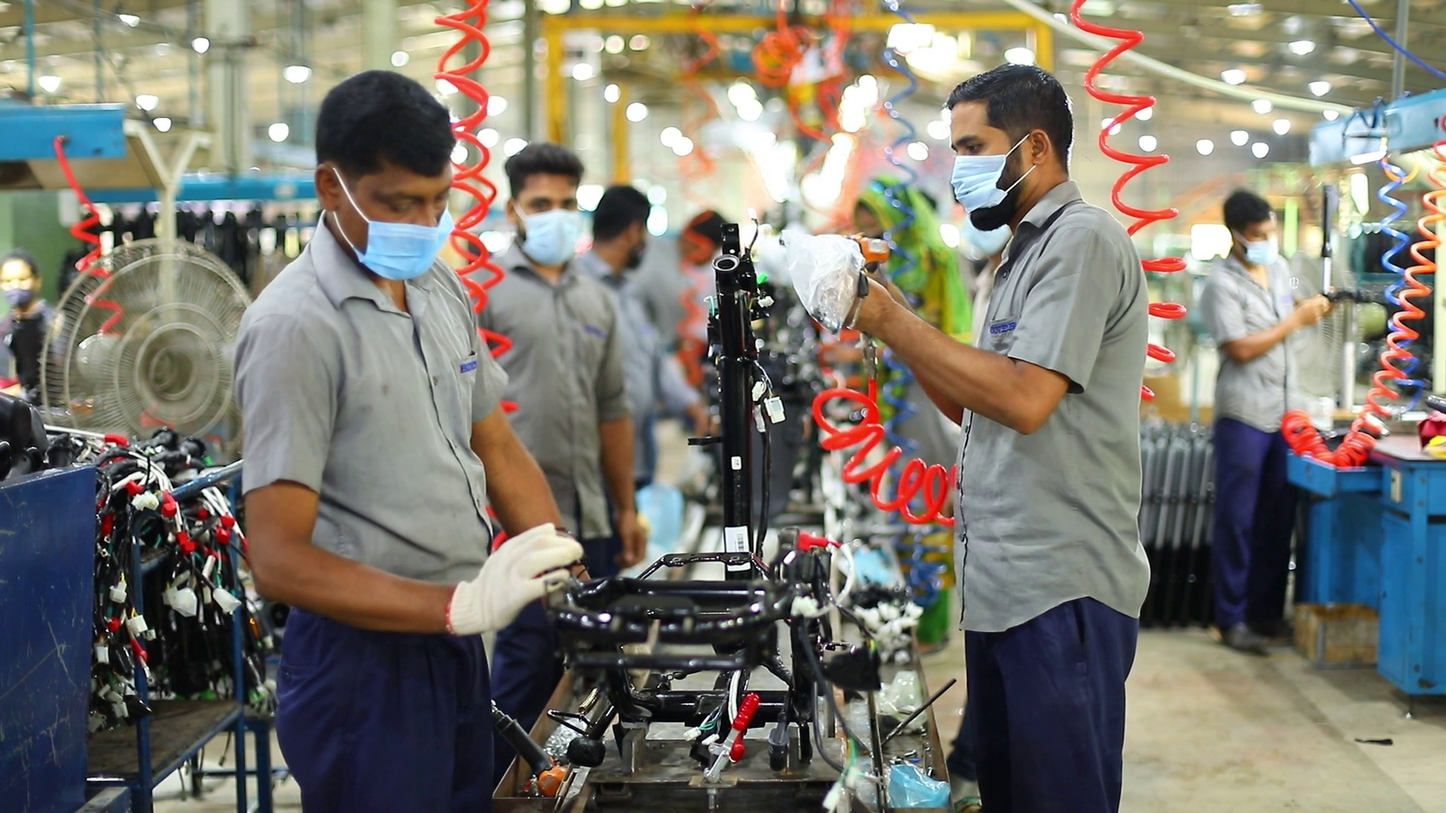mask: (351, 208, 456, 282), (951, 154, 1009, 213), (522, 210, 584, 264), (1243, 239, 1280, 267), (3, 284, 35, 308)
person: (786, 56, 1154, 813), (236, 63, 587, 813), (474, 142, 651, 579), (1187, 190, 1338, 653), (838, 178, 959, 663), (576, 184, 719, 494), (878, 206, 1010, 483), (675, 208, 735, 367), (0, 249, 59, 408)
